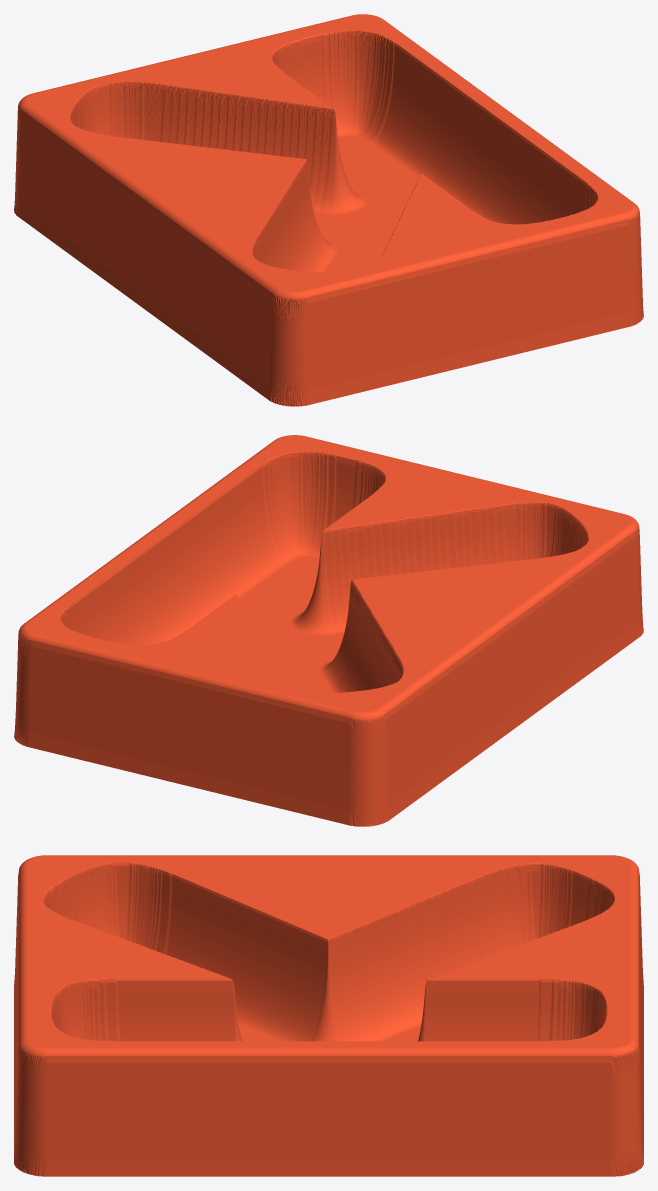
The model's file is mold.glb.
3 views of the same model, one above another, from view 1: azimuth 30°, elevation 25°; view 2: azimuth 150°, elevation 25°; view 3: azimuth 270°, elevation 25° (orthographic). The views are drawn at different scales.
Parts seen in each view (by area): view 1: geometry_0; view 2: geometry_0; view 3: geometry_0.
Boxes of the visible parts, x1,y1,x2,y2 form: geometry_0: [14, 14, 643, 406]; geometry_0: [14, 435, 643, 826]; geometry_0: [14, 855, 643, 1176].
Bounding box in the file's own units: 0.1289 × 0.0365 × 0.1689.
